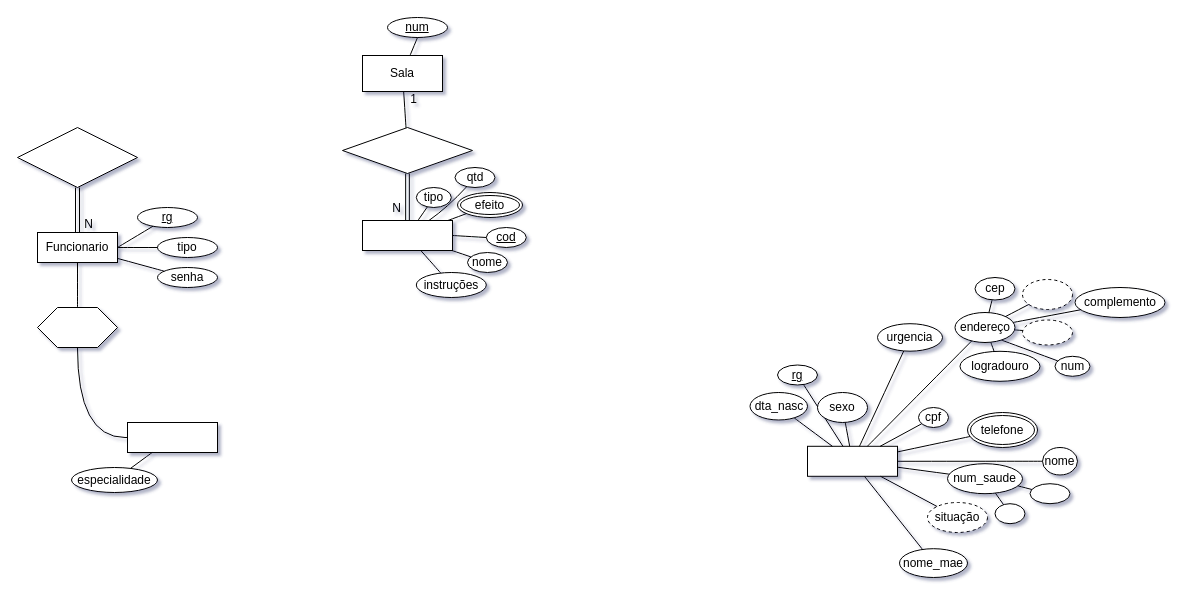
This 1189x601 diagram has some shape labels left out. The centre of each missing label's shape, as x and y in pixels:
Armazenado_em: point 407,150
cidade: point 1047,294
Classe: point 77,327
estado: point 1047,332
hygia: point 1049,493
Material: point 407,235
Medico: point 172,437
Paciente: point 852,460
sus: point 1009,513
Trabalha: point 77,157
